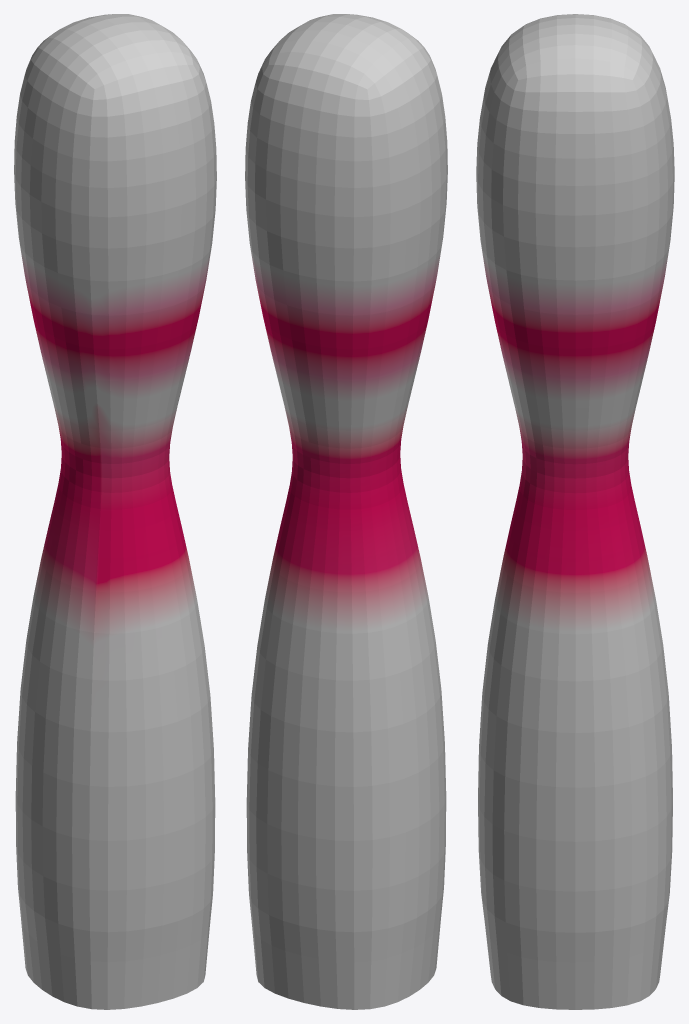
Rendered from demo1_skittle.glb.
3 views of the same model, side by side, from view 1: azimuth 30°, elevation 25°; view 2: azimuth 150°, elevation 25°; view 3: azimuth 270°, elevation 25° (orthographic).
Parts seen in each view (by area): view 1: Cube; view 2: Cube; view 3: Cube.
Part boxes in pixels (x1=…): Cube: x1=14, y1=14, x2=216, y2=1009; Cube: x1=245, y1=14, x2=447, y2=1009; Cube: x1=476, y1=14, x2=674, y2=1009.
Size of the model in its own units: 0.0646 by 0.3428 by 0.0646.
1 material, 1 textured.
